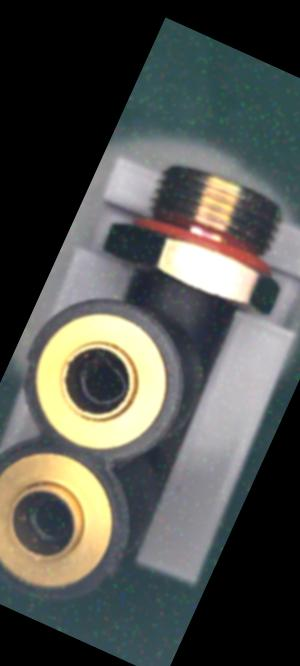bump: (18, 353, 38, 380)
off-centered: (63, 341, 142, 418)
white mark: (168, 284, 191, 306)
